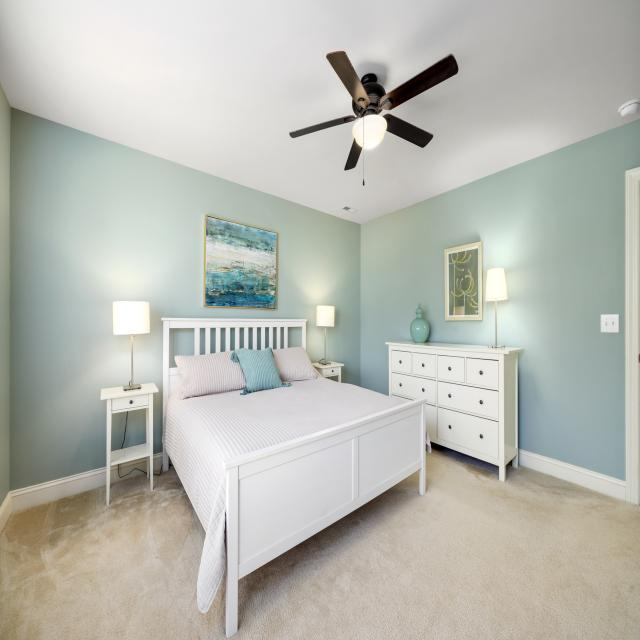floor: (0, 441, 640, 640)
wall: (10, 107, 360, 513), (360, 118, 640, 502), (0, 82, 11, 535), (122, 409, 146, 449), (111, 411, 127, 452)
